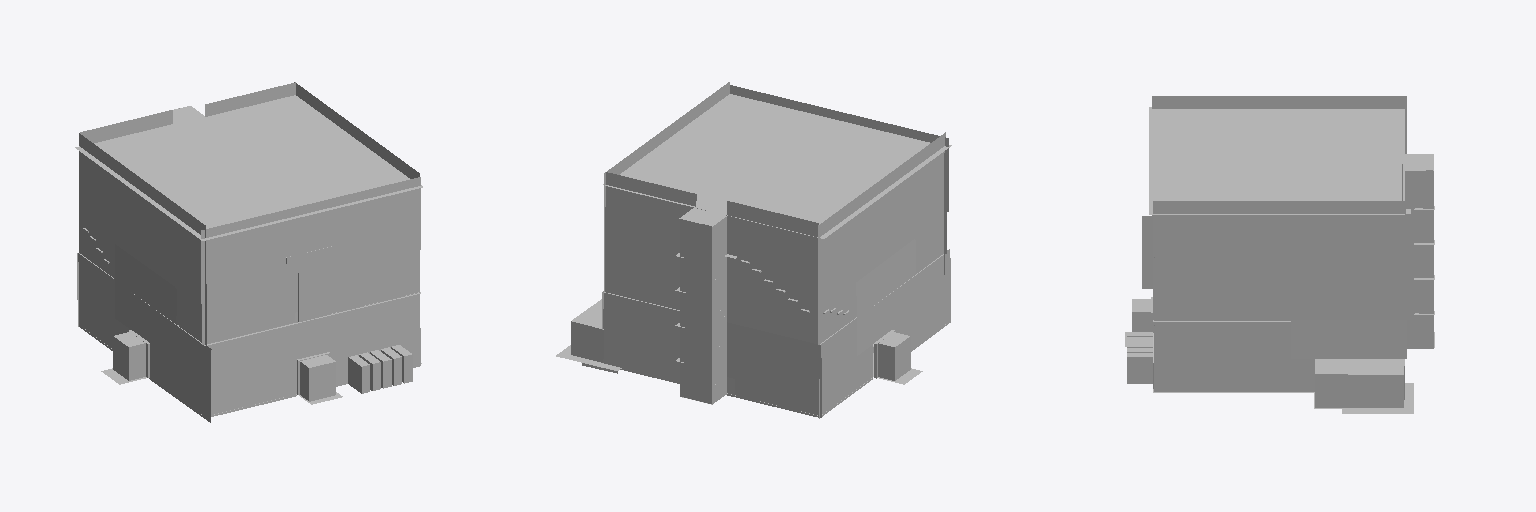
Rendered from JimmyLevel3.obj.
3 renders of one model, left to right at view 1: azimuth 30°, elevation 25°; view 2: azimuth 150°, elevation 25°; view 3: azimuth 270°, elevation 25°, orthographic.
Visible parts, largest first — view 1: Plane.029_Plane.020; view 2: Plane.029_Plane.020; view 3: Plane.029_Plane.020.
Boxes of the visible parts, x1,y1,x2,y2 form: Plane.029_Plane.020: [75, 82, 422, 422]; Plane.029_Plane.020: [556, 82, 951, 418]; Plane.029_Plane.020: [1125, 96, 1434, 413].
Size of the model in its own units: 25.3 by 17.59 by 23.36.